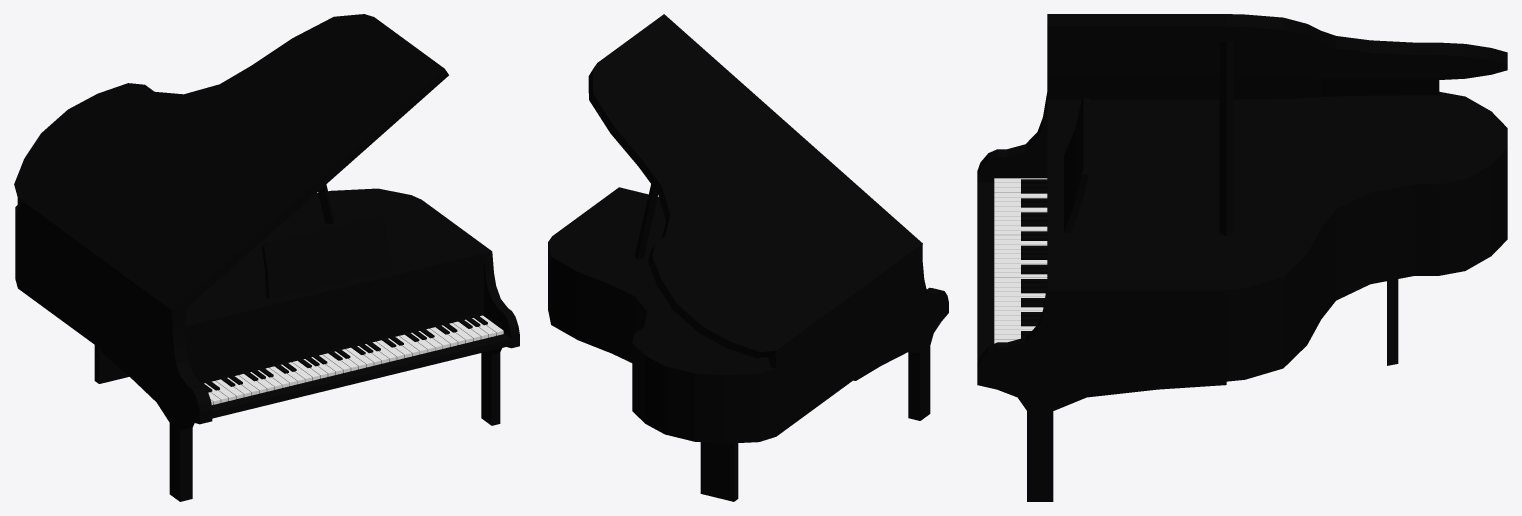
Rendered from Piano_Open.fbx.
The picture shows the model from 3 angles, left to right: view 1: azimuth 30°, elevation 25°; view 2: azimuth 150°, elevation 25°; view 3: azimuth 270°, elevation 25°; orthographic projection. The views are drawn at different scales.
Parts seen in each view (by area): view 1: Piano, WhiteKeys, BlackKeys; view 2: Piano; view 3: Piano, WhiteKeys, BlackKeys.
Part boxes in pixels (bbox=[...]): Piano: bbox=[14, 14, 519, 501]; WhiteKeys: bbox=[204, 315, 503, 404]; BlackKeys: bbox=[200, 315, 487, 392]; Piano: bbox=[548, 14, 948, 501]; Piano: bbox=[977, 14, 1507, 501]; WhiteKeys: bbox=[994, 178, 1047, 343]; BlackKeys: bbox=[1021, 179, 1047, 338].
Size of the model in its own units: 158 by 170 by 178.
